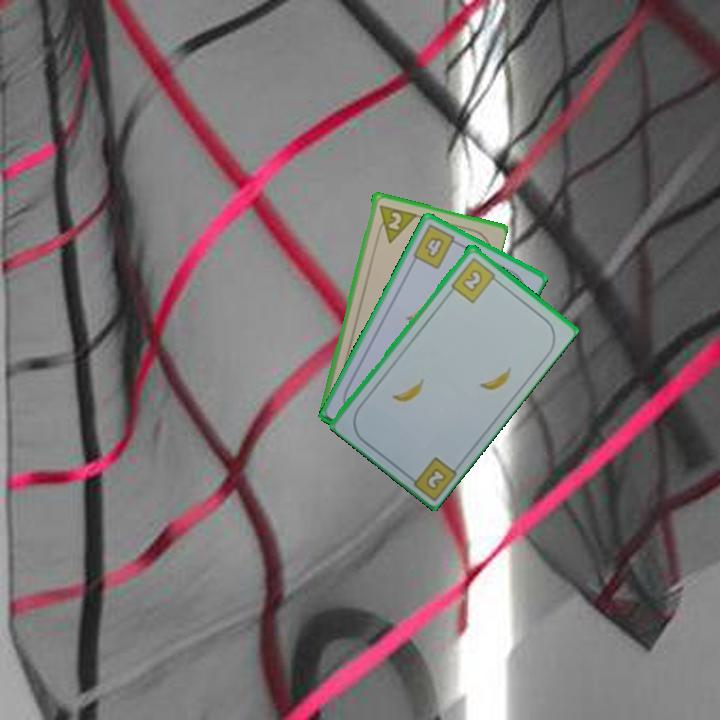2b: (447, 254, 502, 306), (402, 453, 460, 501)
2p: (372, 201, 418, 245)
4b: (409, 221, 463, 272)
